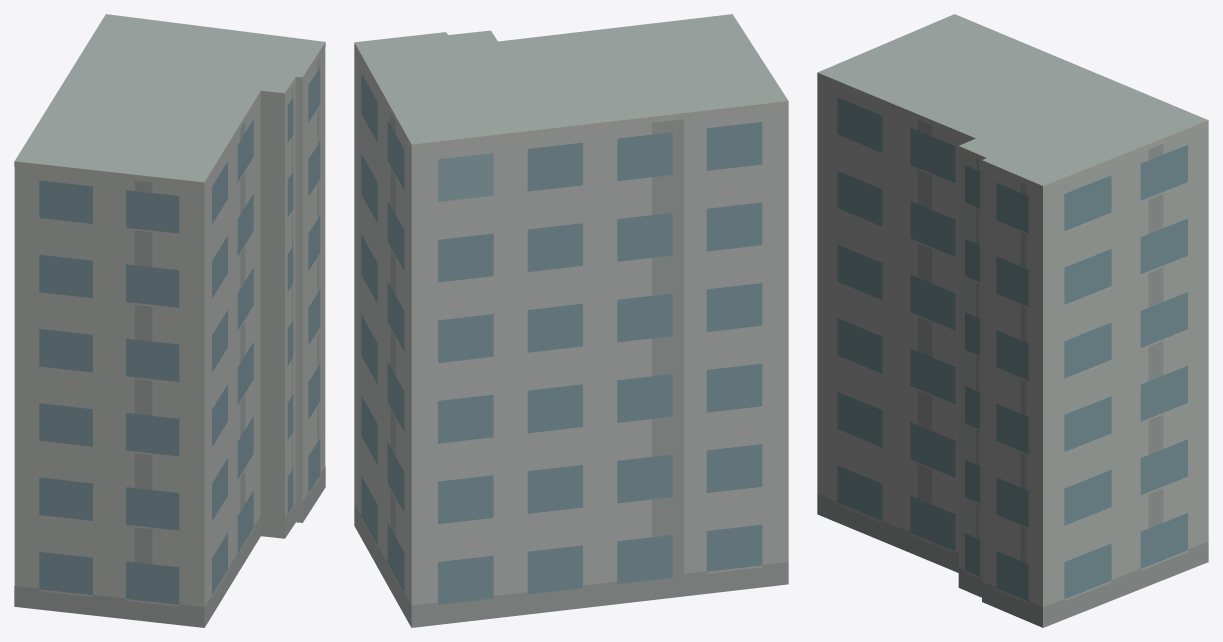
File: survey-upis-32909260.glb
The picture shows the model from 3 angles, left to right: view 1: azimuth 30°, elevation 25°; view 2: azimuth 150°, elevation 25°; view 3: azimuth 270°, elevation 25°; orthographic projection. The views are drawn at different scales.
Visible parts, largest first — view 1: survey-upis-32909260.tmp; view 2: survey-upis-32909260.tmp; view 3: survey-upis-32909260.tmp.
Part boxes in pixels (x1,y1,x2,y2): survey-upis-32909260.tmp: (14,14,325,627); survey-upis-32909260.tmp: (354,14,788,627); survey-upis-32909260.tmp: (817,14,1208,627).
Bounding box in the file's own units: 16.22 × 19.4 × 15.58.
